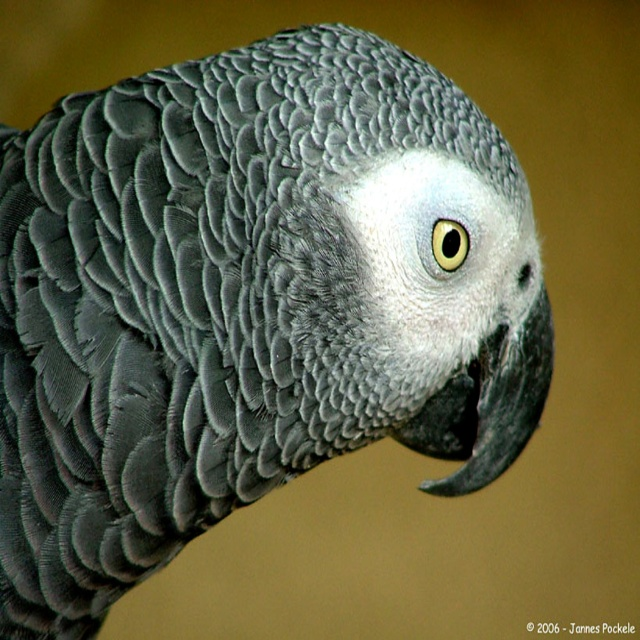Parrot: (0, 21, 554, 640)
